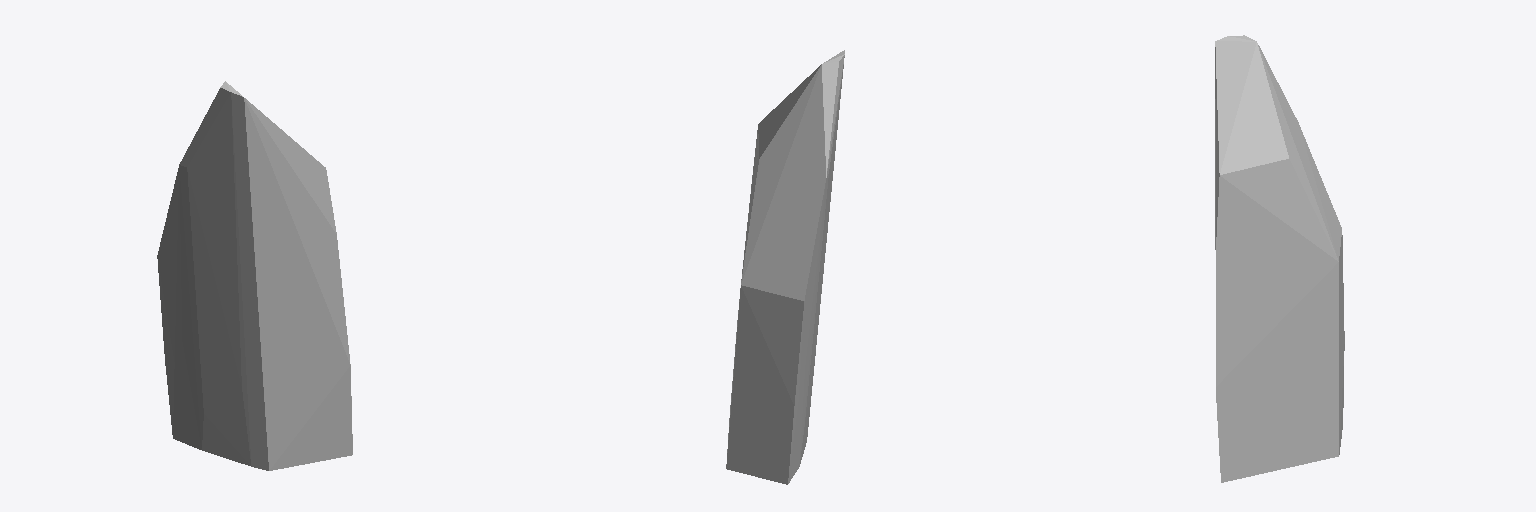
The model's file is trash_bin_collision_14.obj.
3 renders of one model, left to right at view 1: azimuth 30°, elevation 25°; view 2: azimuth 150°, elevation 25°; view 3: azimuth 270°, elevation 25°, orthographic.
Bounding box in the file's own units: 0.0374 × 0.1031 × 0.031.